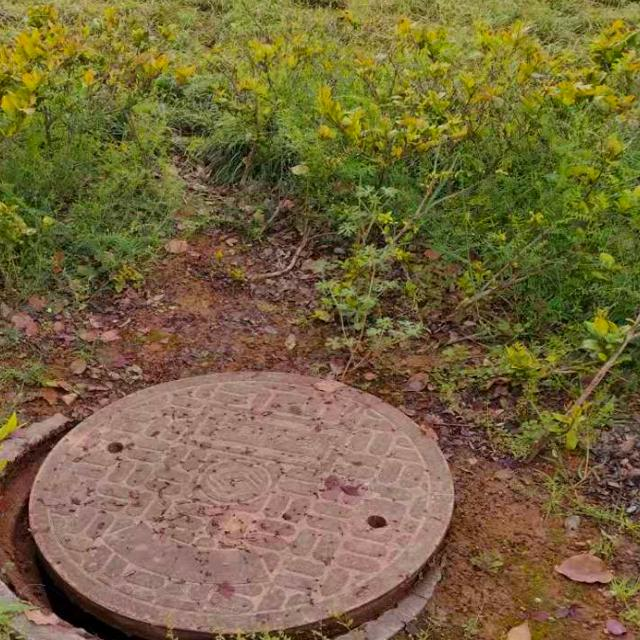uncovered: (0, 371, 454, 640)
